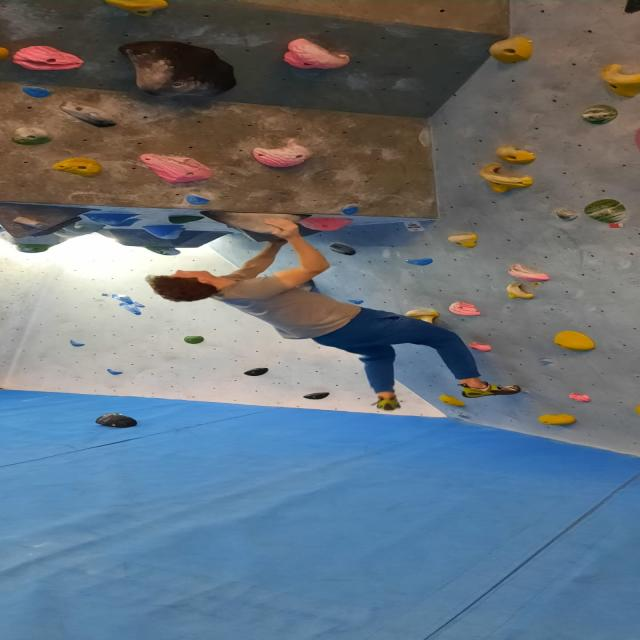Crimp: (584, 198, 632, 226), (576, 106, 620, 129), (401, 256, 446, 271), (178, 193, 222, 206), (20, 86, 54, 102), (554, 205, 578, 223), (116, 301, 144, 316), (338, 203, 364, 216), (465, 342, 493, 353), (63, 338, 90, 349), (101, 366, 128, 377), (565, 392, 592, 402), (111, 294, 133, 304), (130, 302, 151, 308)
Jug: (282, 36, 354, 74), (475, 166, 536, 195), (488, 34, 538, 67), (599, 64, 640, 98), (50, 157, 104, 180), (490, 144, 537, 167), (501, 280, 550, 302), (9, 128, 56, 149), (506, 265, 556, 284), (444, 231, 481, 251), (445, 302, 484, 320)
Pinch: (56, 100, 125, 130), (9, 215, 53, 231)
Pocket: (11, 46, 89, 78)
Sloper: (109, 38, 244, 102), (196, 208, 312, 234), (136, 148, 214, 186), (251, 139, 313, 173), (550, 329, 598, 356), (142, 223, 186, 240), (327, 241, 361, 256), (242, 367, 273, 378), (183, 335, 207, 346), (300, 391, 330, 399)
